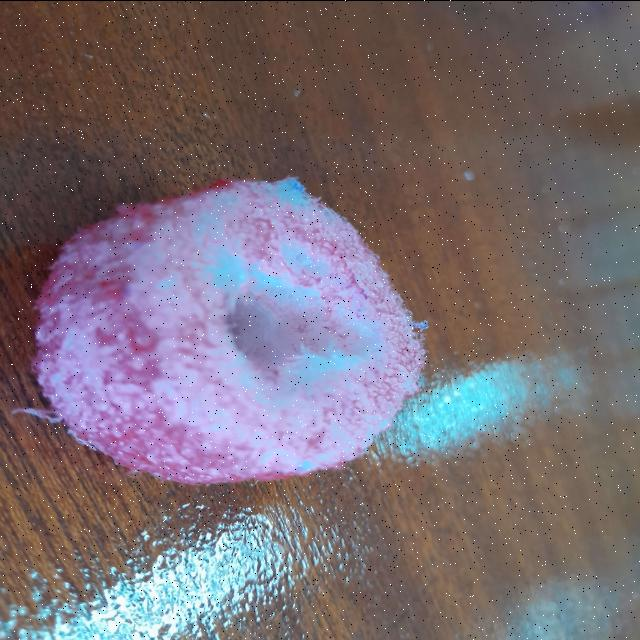wheel: (29, 146, 453, 488)
